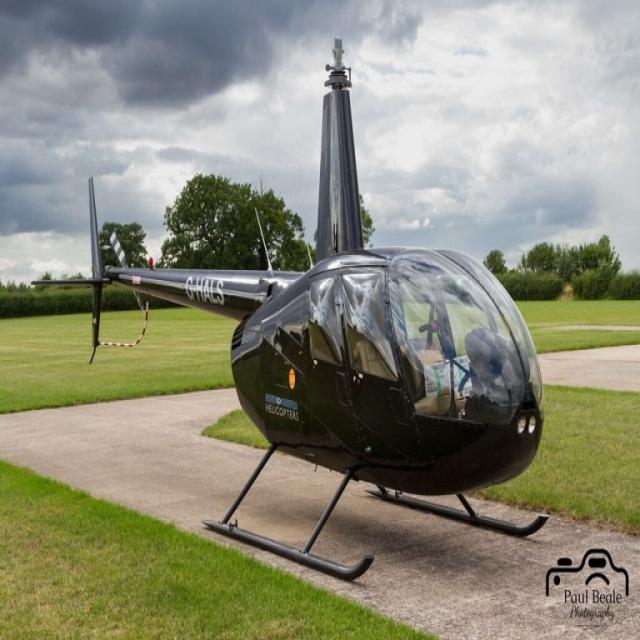CIV_HELO: (31, 36, 552, 585)
